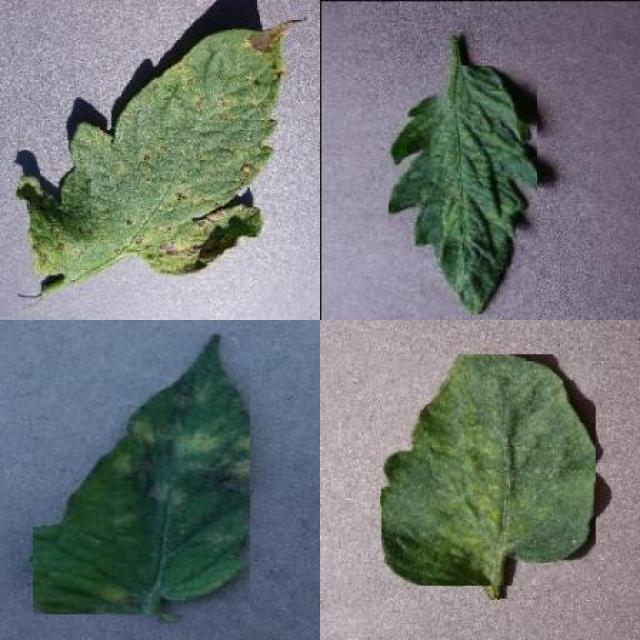Leaf Mold: (34, 332, 250, 614)
Mosaic Virus: (389, 66, 537, 314)
Septoria: (17, 28, 286, 275)
Spider Mites: (381, 354, 596, 586)
